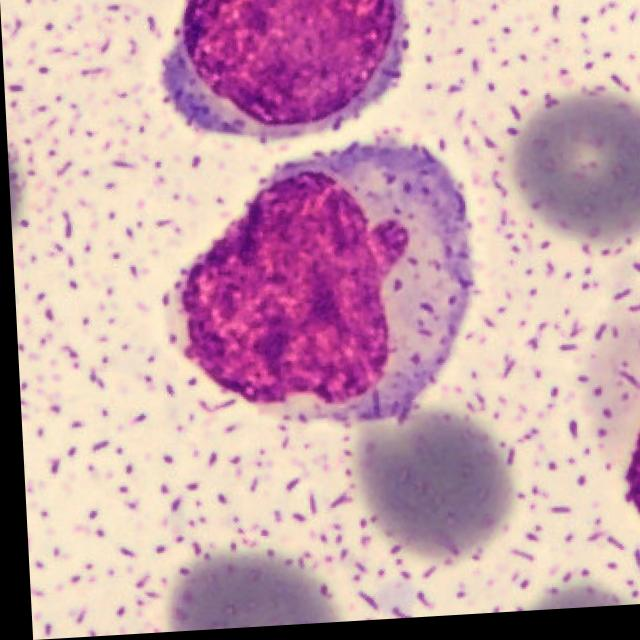Mieloblasto: (171, 146, 468, 425), (162, 0, 403, 140)
